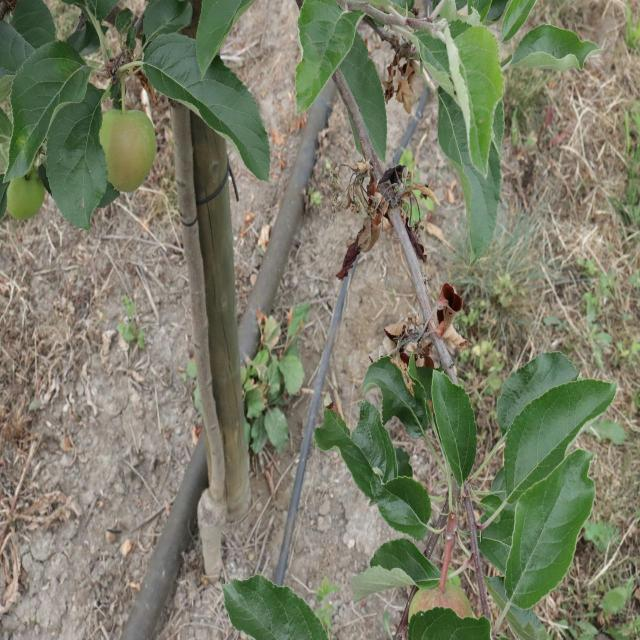-FireBlight-: (350, 152, 442, 264), (386, 275, 469, 387), (382, 34, 417, 114)
